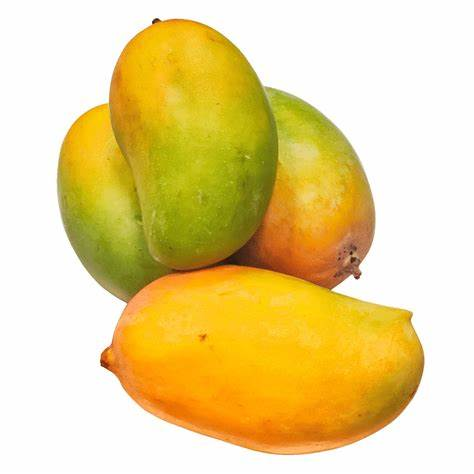Mango: (101, 263, 437, 459), (114, 14, 277, 272), (228, 83, 379, 294), (55, 97, 176, 300)
